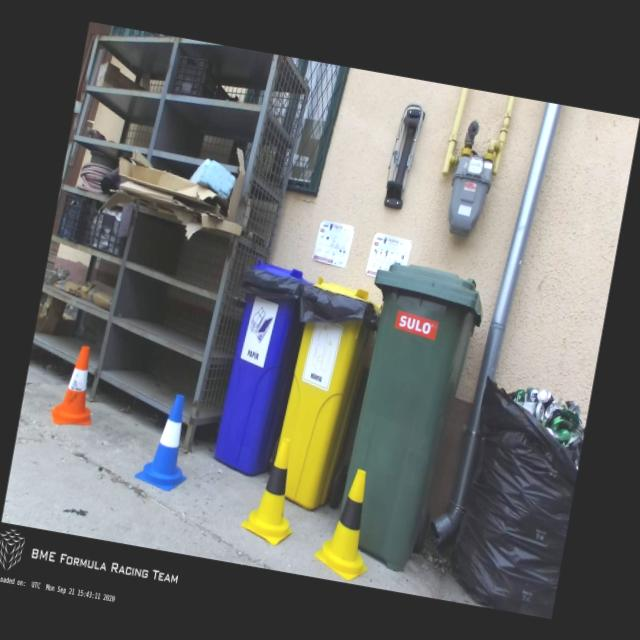blue_cone: (132, 388, 200, 494)
orange_cone: (49, 341, 104, 430)
yellow_cone: (311, 464, 384, 584), (238, 433, 308, 548)
